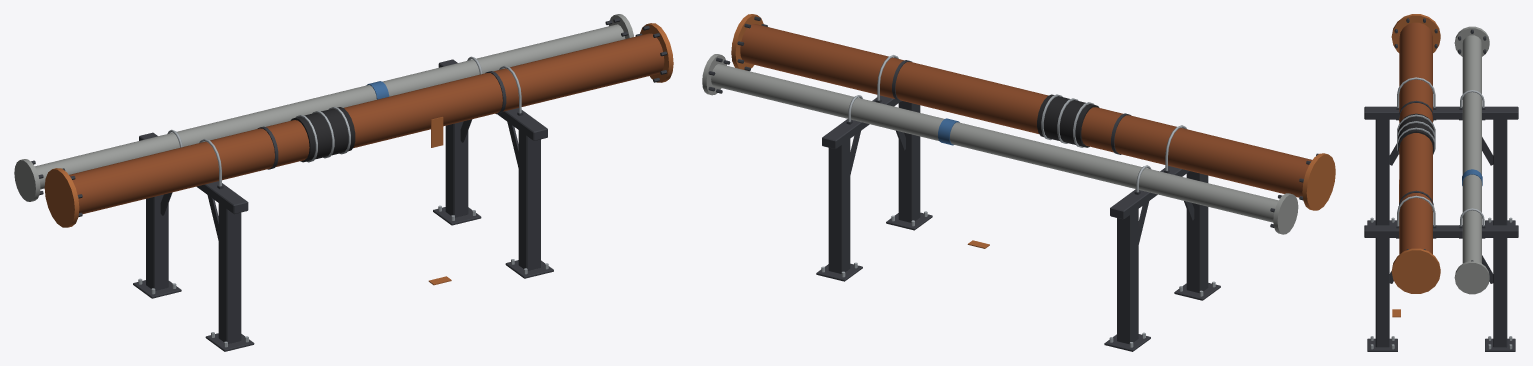
Rendered from deco_pipe_straight.fbx.
The picture shows the model from 3 angles, left to right: view 1: azimuth 30°, elevation 25°; view 2: azimuth 150°, elevation 25°; view 3: azimuth 270°, elevation 25°; orthographic projection. The views are drawn at different scales.
Visible parts, largest first — view 1: Pipe_Straight_PipeLarge, Pipe_Straight_Stands, Pipe_Straight_PipeSmall, Pipe_Straight_Repair, Pipe_Straight_Fittings; view 2: Pipe_Straight_PipeLarge, Pipe_Straight_PipeSmall, Pipe_Straight_Stands, Pipe_Straight_Repair, Pipe_Straight_Fittings; view 3: Pipe_Straight_Stands, Pipe_Straight_PipeLarge, Pipe_Straight_PipeSmall, Pipe_Straight_Fittings, Pipe_Straight_Repair.
Part boxes in pixels (bbox=[...]): Pipe_Straight_PipeLarge: bbox=[44, 23, 673, 227]; Pipe_Straight_Stands: bbox=[133, 59, 553, 351]; Pipe_Straight_PipeSmall: bbox=[14, 14, 633, 201]; Pipe_Straight_Repair: bbox=[290, 106, 451, 285]; Pipe_Straight_Fittings: bbox=[31, 18, 667, 347]; Pipe_Straight_PipeLarge: bbox=[731, 14, 1335, 210]; Pipe_Straight_PipeSmall: bbox=[702, 54, 1298, 234]; Pipe_Straight_Stands: bbox=[816, 95, 1220, 351]; Pipe_Straight_Repair: bbox=[967, 94, 1099, 248]; Pipe_Straight_Fittings: bbox=[708, 16, 1318, 347]; Pipe_Straight_Stands: bbox=[1364, 106, 1518, 351]; Pipe_Straight_PipeLarge: bbox=[1391, 14, 1440, 293]; Pipe_Straight_PipeSmall: bbox=[1454, 26, 1489, 294]; Pipe_Straight_Fittings: bbox=[1370, 18, 1512, 349]; Pipe_Straight_Repair: bbox=[1392, 113, 1435, 317].
Size of the model in its own units: 399 by 122 by 110.
